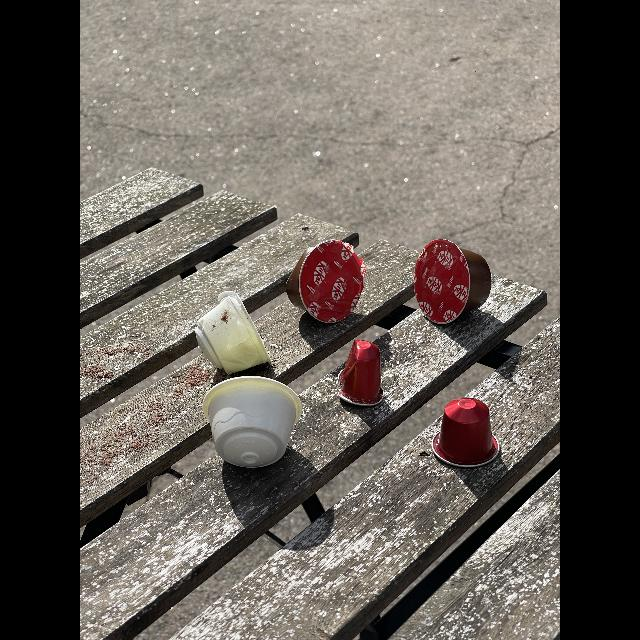damaged_capsule: (282, 234, 378, 330), (189, 289, 283, 375), (334, 337, 390, 411)
intact_capsule: (198, 377, 312, 473), (410, 236, 498, 326), (428, 394, 506, 470)
